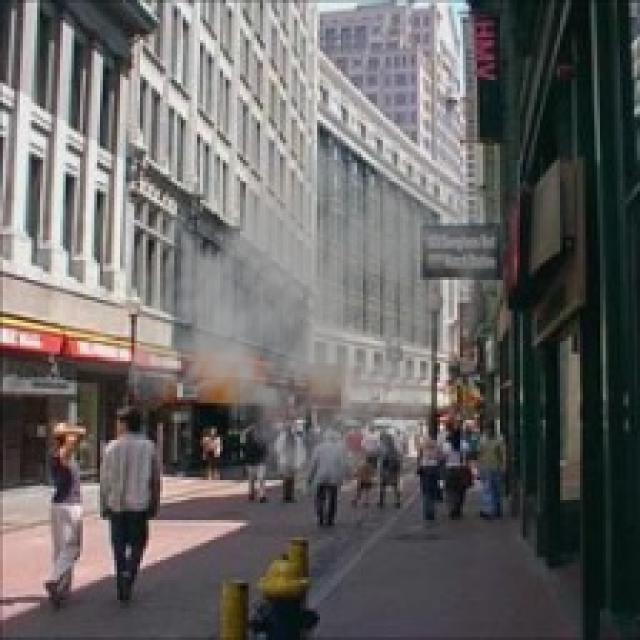Smoke: (122, 106, 512, 503)
